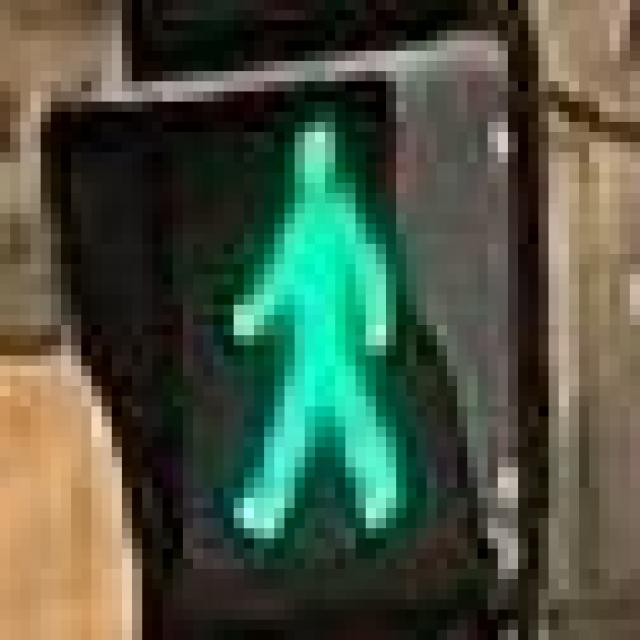green_light: (183, 92, 427, 518)
